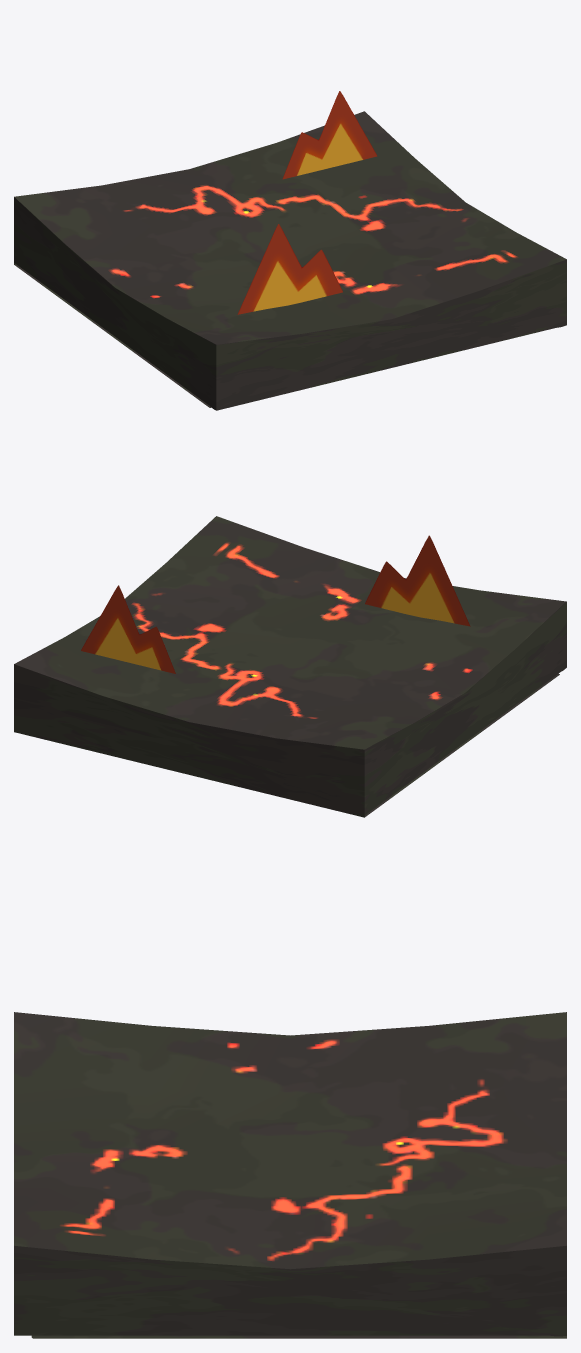
Rendered from 2FireTile1.fbx.
3 renders of one model, top to bottom at view 1: azimuth 30°, elevation 25°; view 2: azimuth 150°, elevation 25°; view 3: azimuth 270°, elevation 25°, orthographic. The views are drawn at different scales.
Parts seen in each view (by area): view 1: 2FireTile1, 1BurningFire.005, 1BurningFire.006; view 2: 2FireTile1, 1BurningFire.005, 1BurningFire.006; view 3: 2FireTile1.
Boxes of the visible parts, box(x1,y1,x2,y2) form: 2FireTile1: box(14, 111, 566, 410); 1BurningFire.005: box(237, 224, 342, 314); 1BurningFire.006: box(282, 91, 377, 179); 2FireTile1: box(14, 516, 566, 817); 1BurningFire.005: box(365, 535, 470, 626); 1BurningFire.006: box(81, 585, 175, 673); 2FireTile1: box(14, 1012, 566, 1338).
Bounding box in the file's own units: 200 × 114 × 200.
2 materials, 2 textured.
